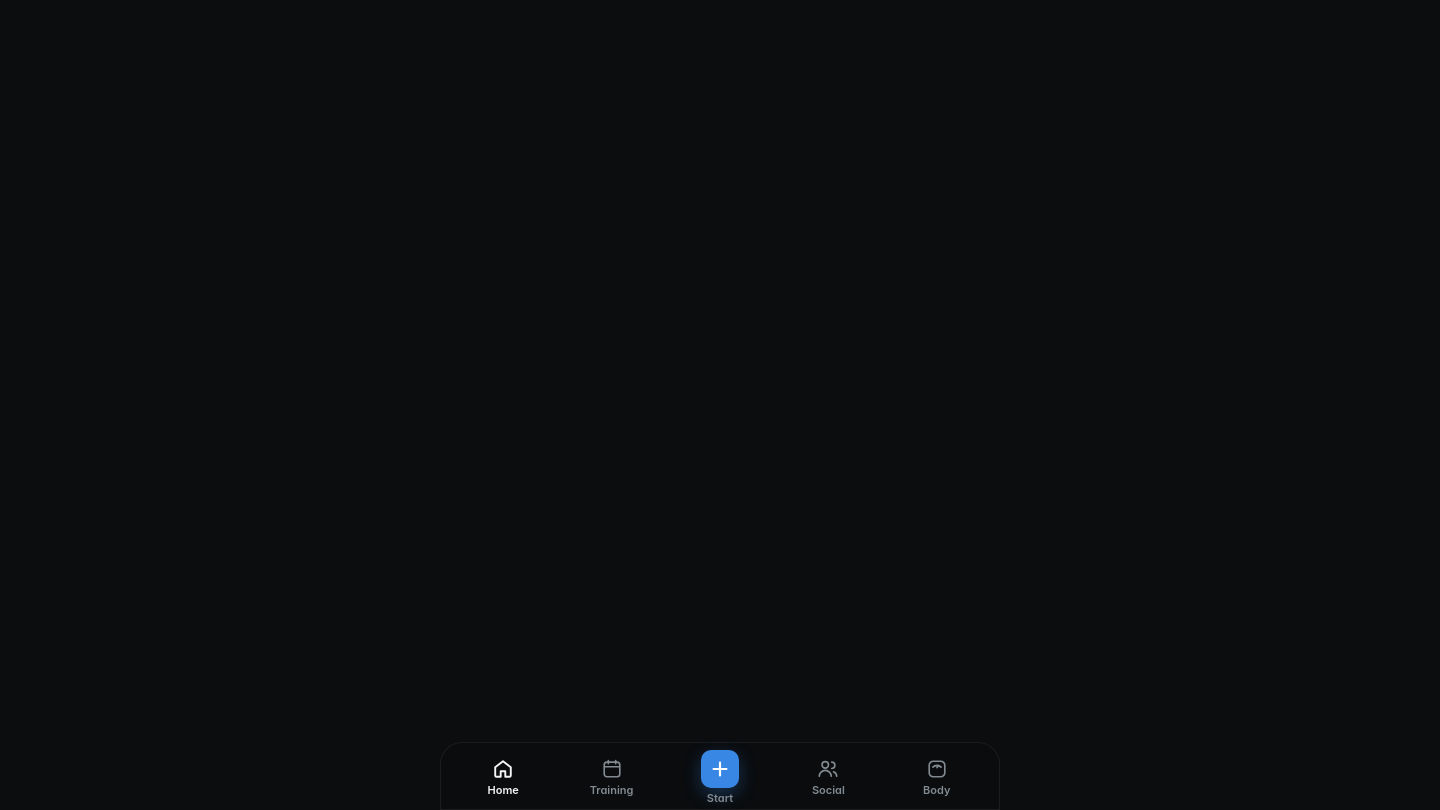
Test: Start menu › starts Cardio and closes the menu
Click the button with class "app-tab-start" at coordinates (720, 778), box x1=666 y1=750 x2=774 y2=805
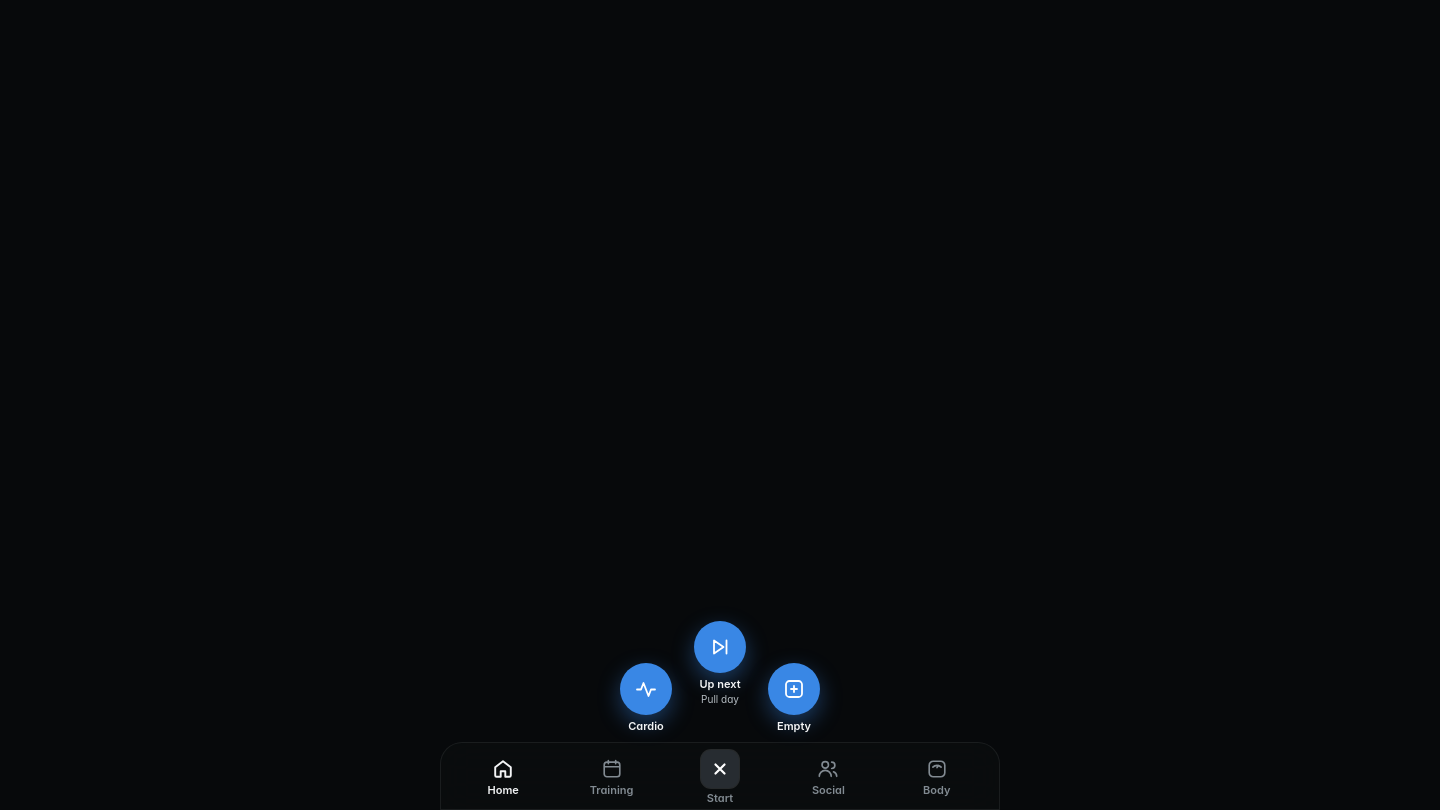
Click the button with class "start-menu-option" showing "Cardio" at coordinates (646, 698), box x1=586 y1=663 x2=706 y2=733
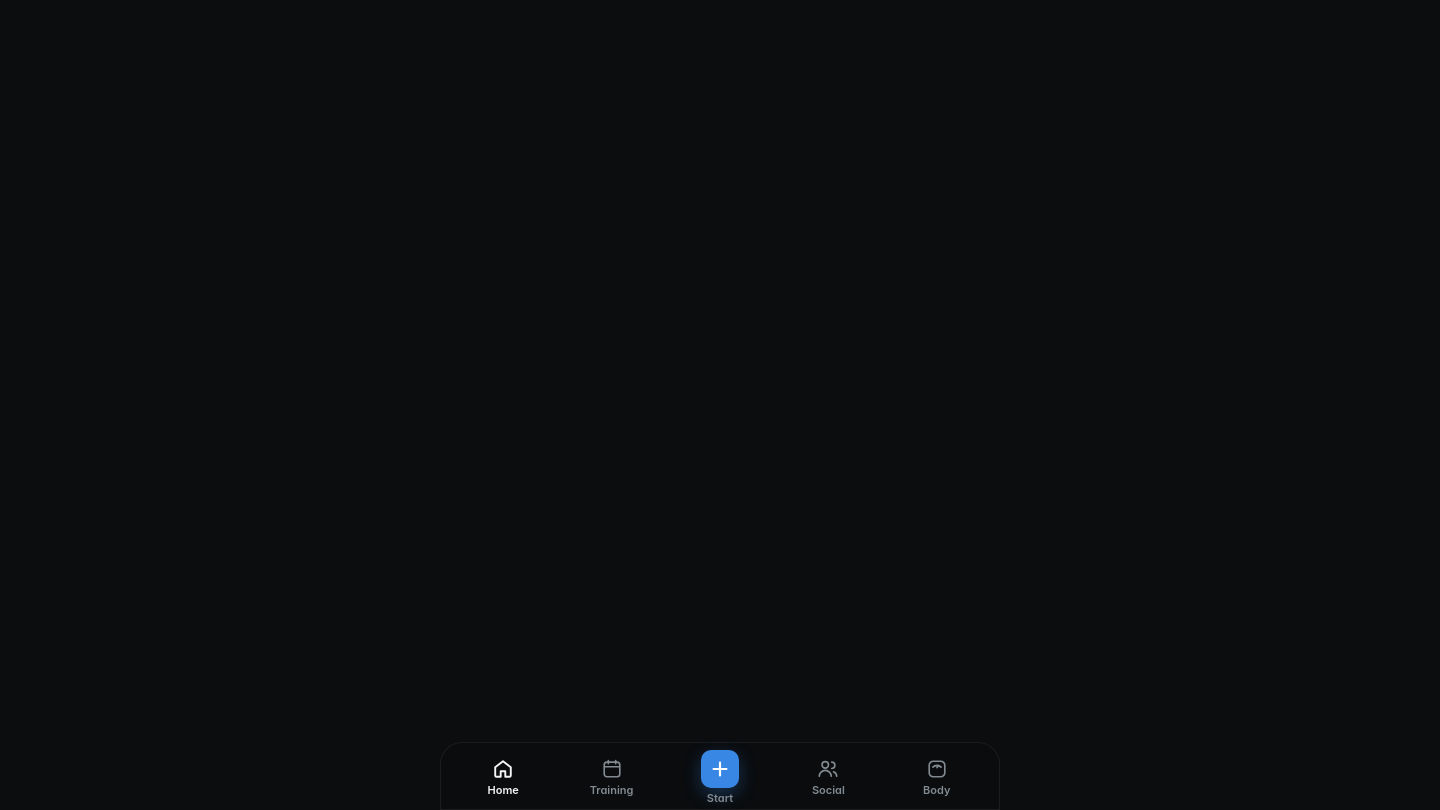
Result: the button with class "app-tab-start" is collapsed at x1=666 y1=750 x2=774 y2=805
